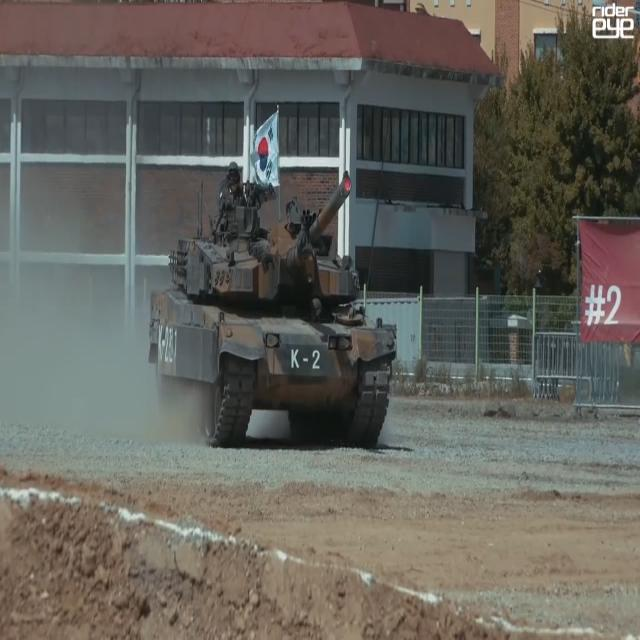korea tank: (148, 161, 396, 450)
